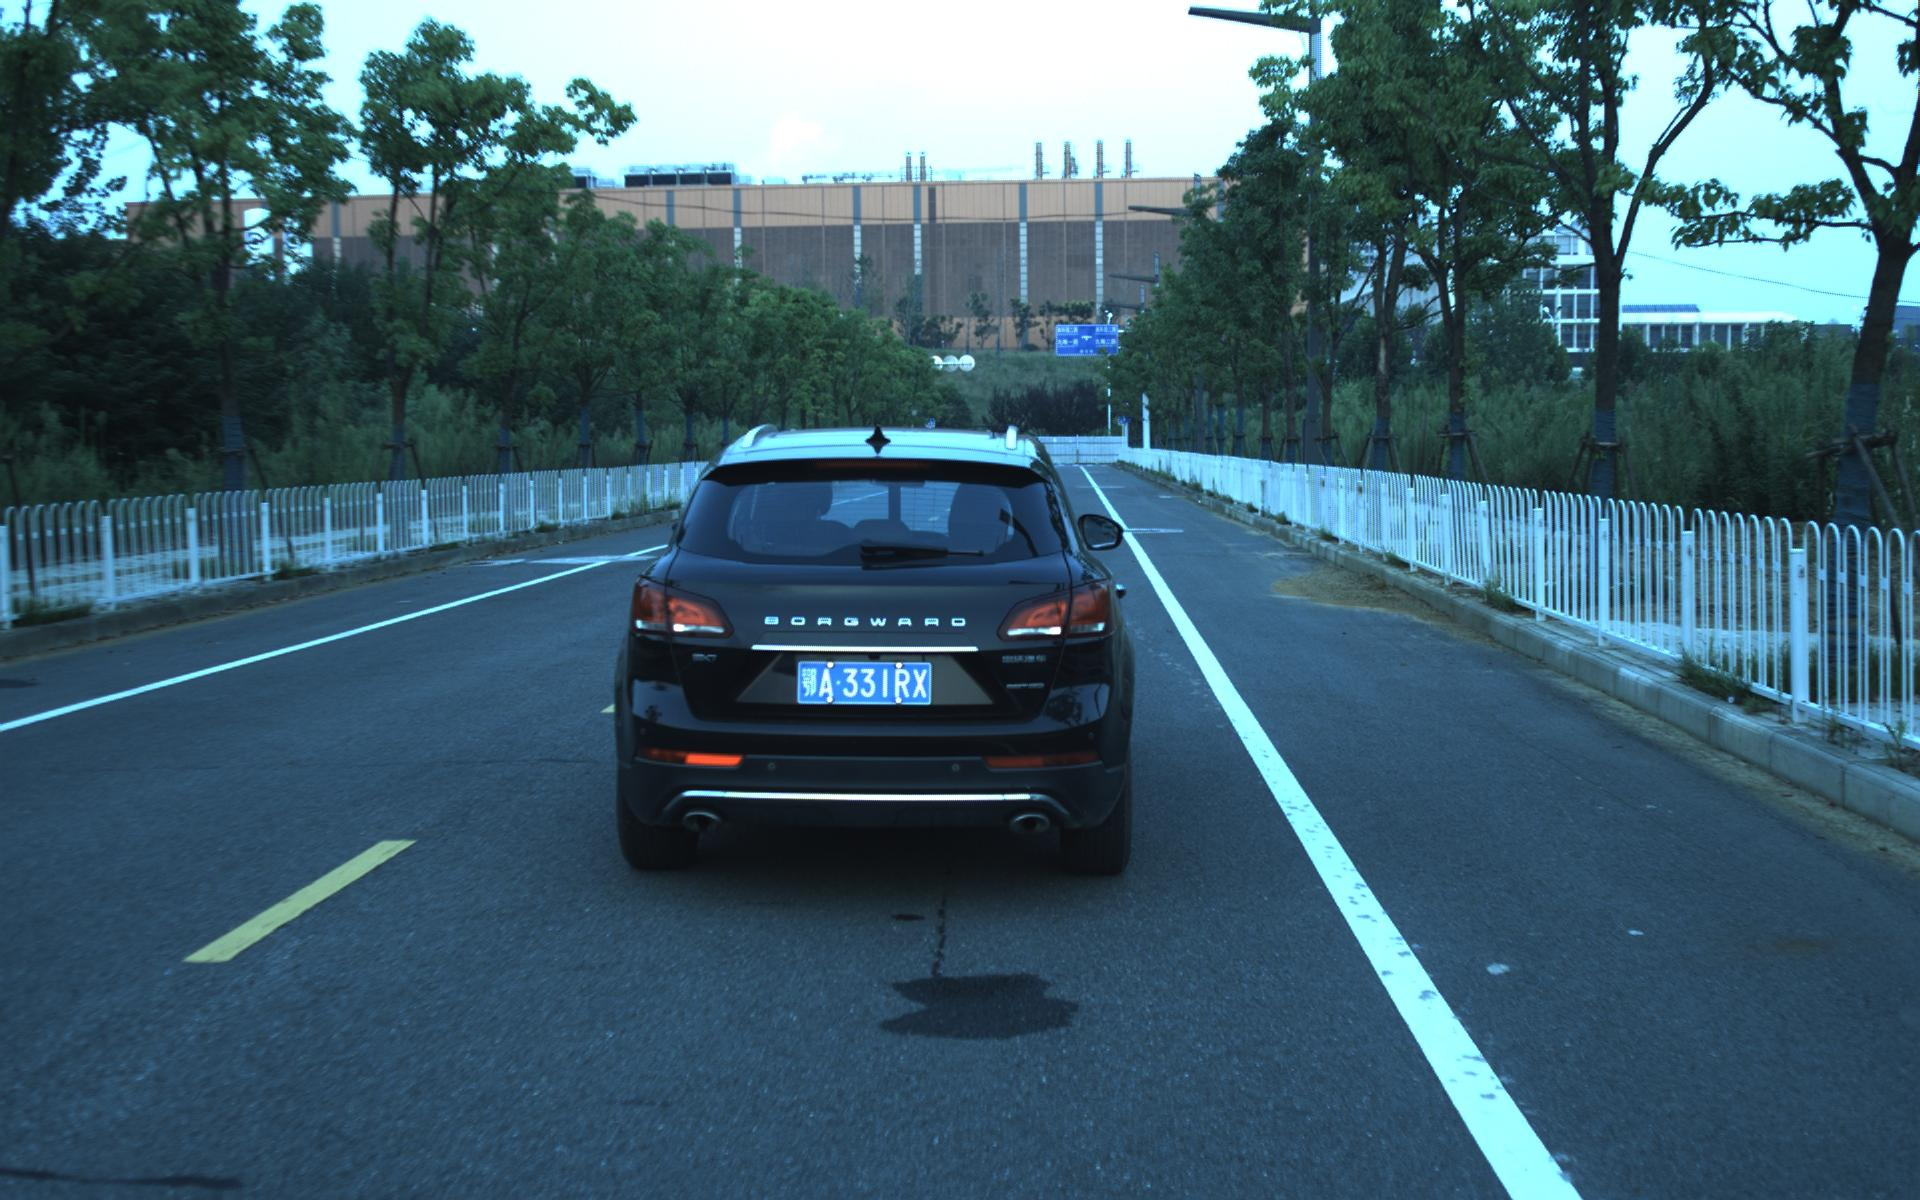Car: (596, 395, 1143, 879)
